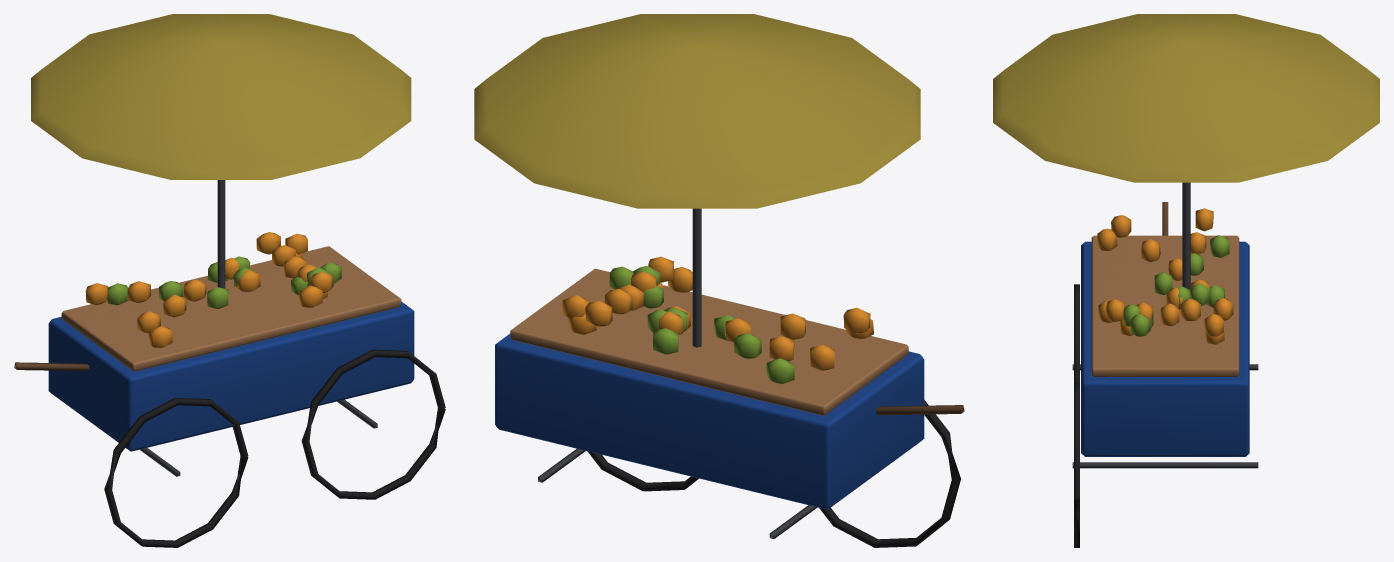
The model's file is FruitCartMIA.fbx.
3 renders of one model, left to right at view 1: azimuth 30°, elevation 25°; view 2: azimuth 150°, elevation 25°; view 3: azimuth 270°, elevation 25°, orthographic. The views are drawn at different scales.
Parts seen in each view (by area): view 1: FruitCartMIA; view 2: FruitCartMIA; view 3: FruitCartMIA.
Boxes of the visible parts, x1,y1,x2,y2 form: FruitCartMIA: [14, 14, 445, 547]; FruitCartMIA: [474, 14, 964, 547]; FruitCartMIA: [993, 14, 1379, 547].
Bounding box in the file's own units: 2.15 × 2.34 × 1.84.
